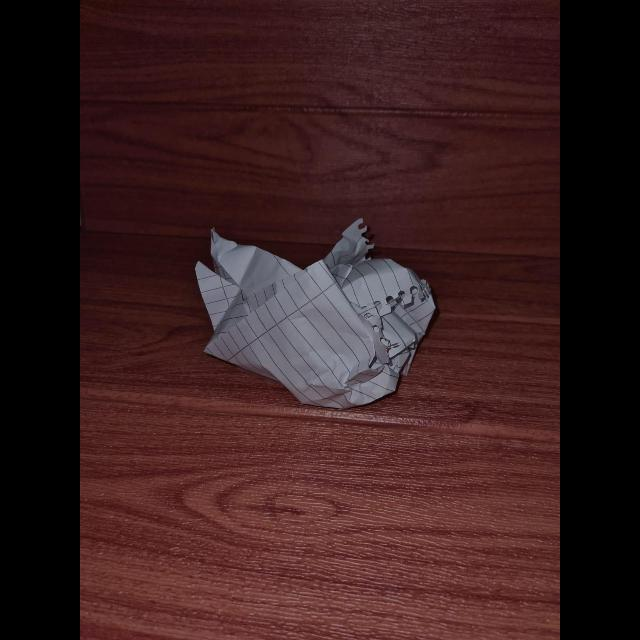scrap_paper: (193, 230, 437, 402)
